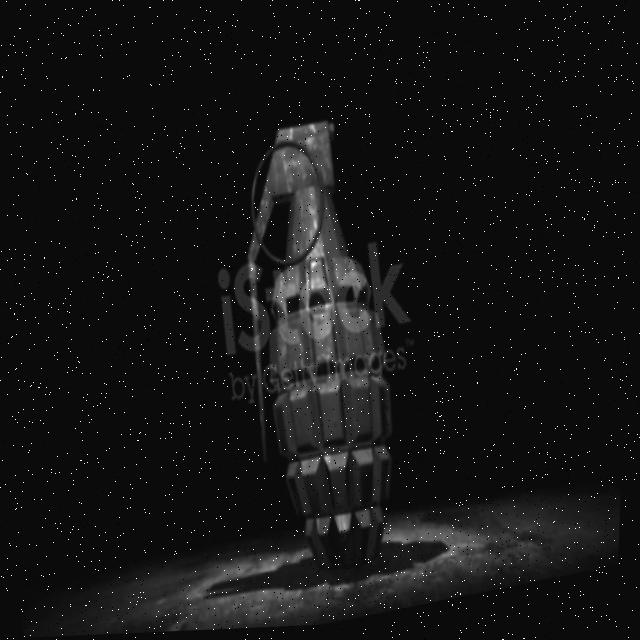grenade: (209, 92, 438, 600)
